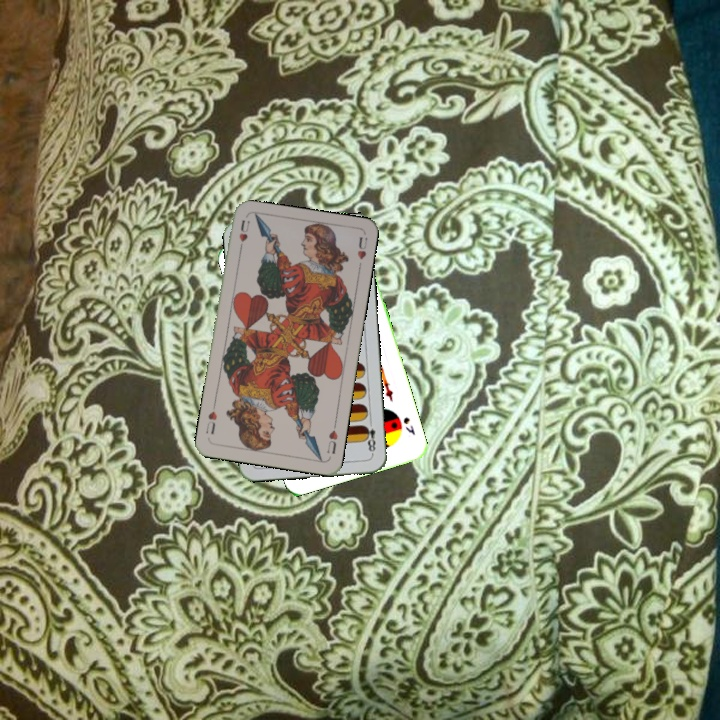E8: (360, 416, 378, 457)
HU: (235, 216, 252, 255), (323, 419, 340, 457)
SK: (399, 413, 418, 438)
